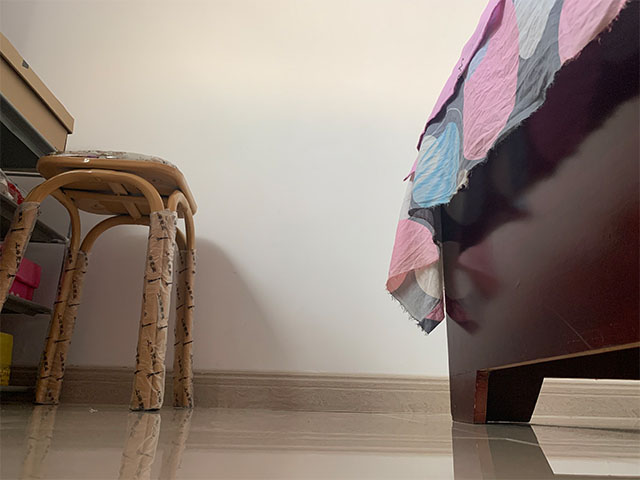bed: (384, 1, 640, 425)
stool: (1, 147, 200, 415)
